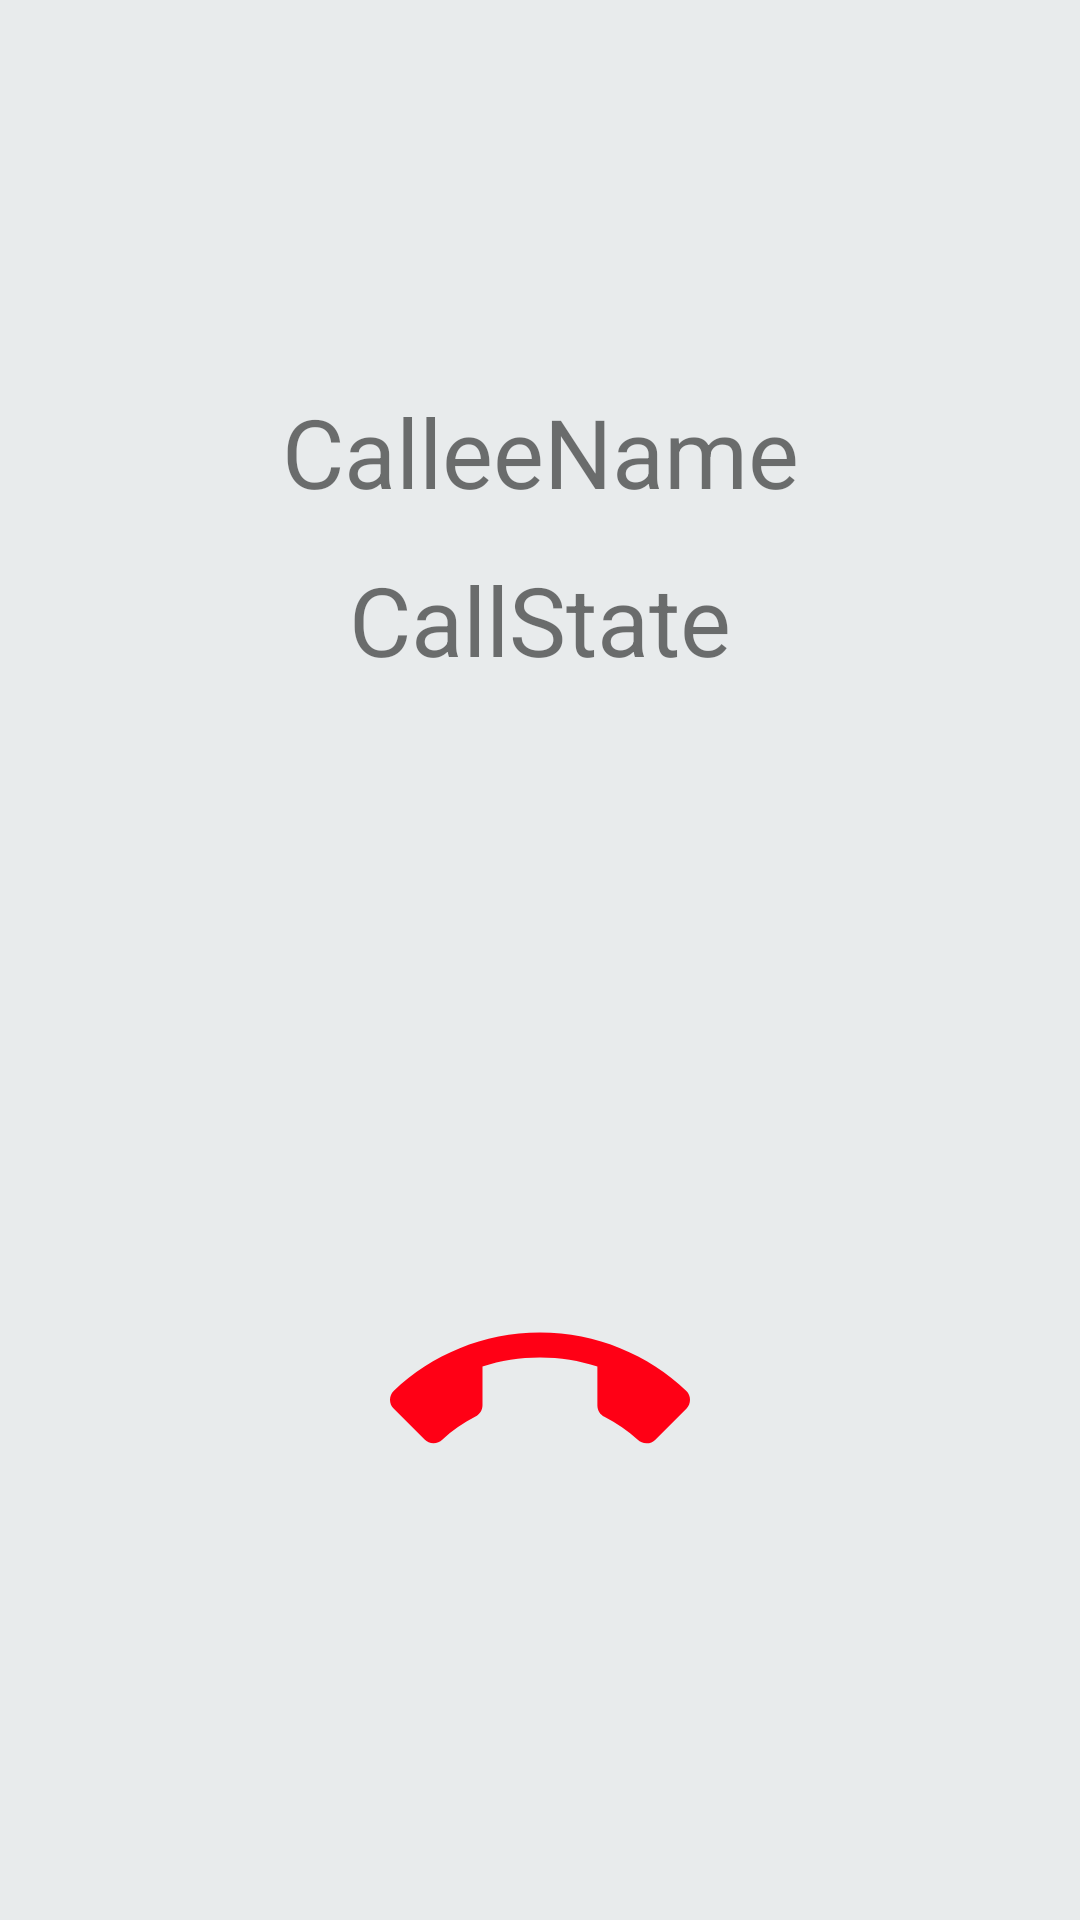

Point at icon controls on the screen. Image size 1080x1920, points as (x=x, y=y).
endcall: (x=540, y=1388)
